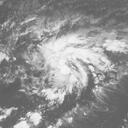cyclone: (36, 42, 90, 102)
